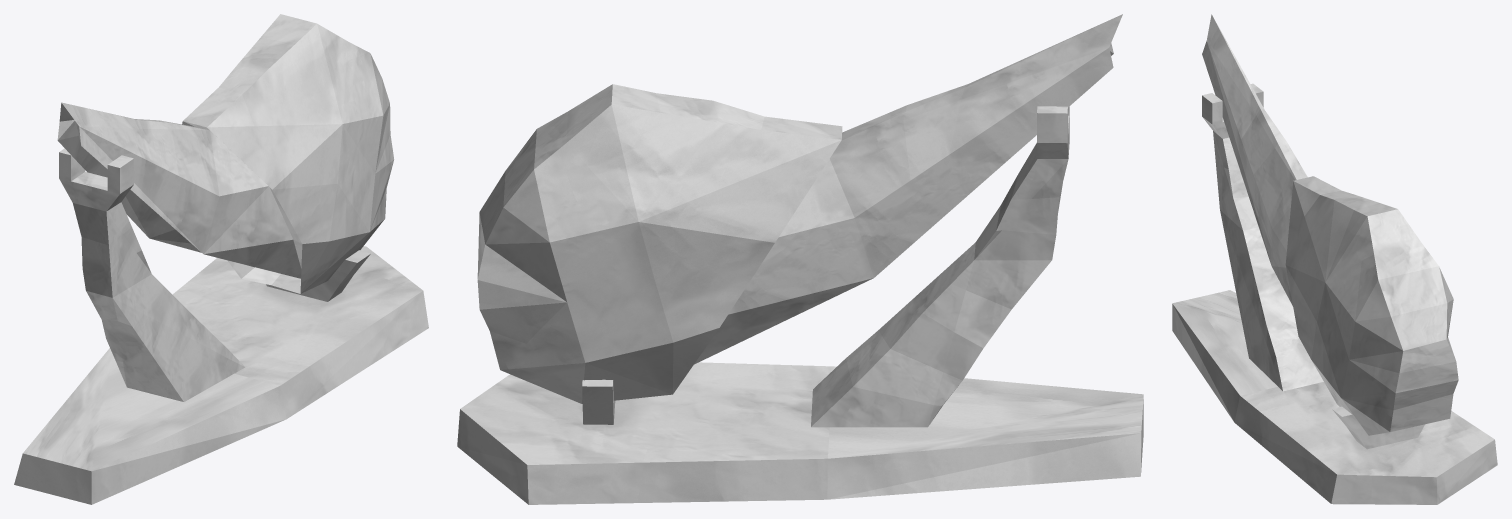
The model's file is Jamon.FBX.
3 views of the same model, side by side, from view 1: azimuth 30°, elevation 25°; view 2: azimuth 150°, elevation 25°; view 3: azimuth 270°, elevation 25° (orthographic). The views are drawn at different scales.
Parts seen in each view (by area): view 1: Jamon; view 2: Jamon; view 3: Jamon.
Part boxes in pixels (<box>): Jamon: <box>14,14,428,504</box>; Jamon: <box>457,14,1143,504</box>; Jamon: <box>1172,14,1497,504</box>.
Size of the model in its own units: 92.97 by 71.95 by 67.39.
